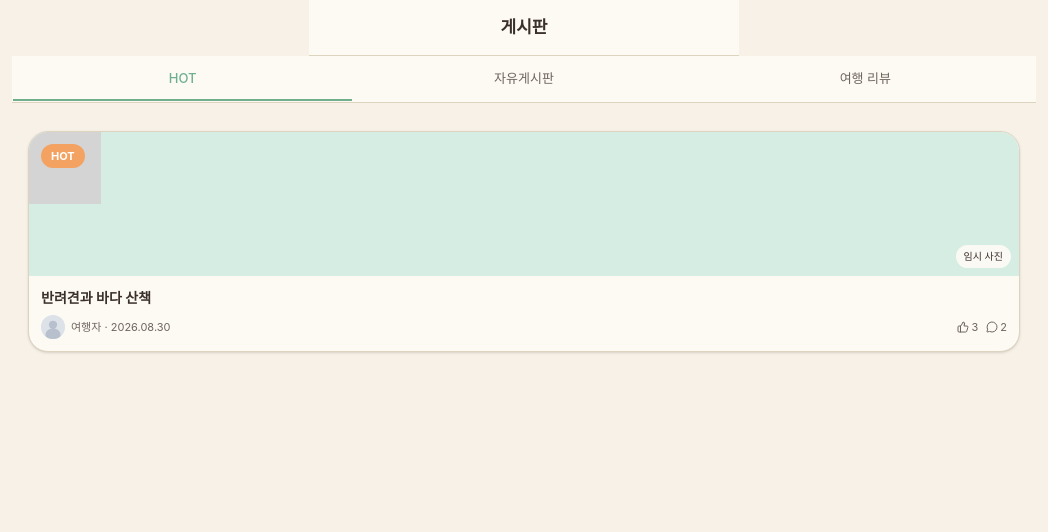
live community board › loads travel review posts through the travel review category feed
Click the button "여행 리뷰" at (865, 79), box [695,56,1036,102]
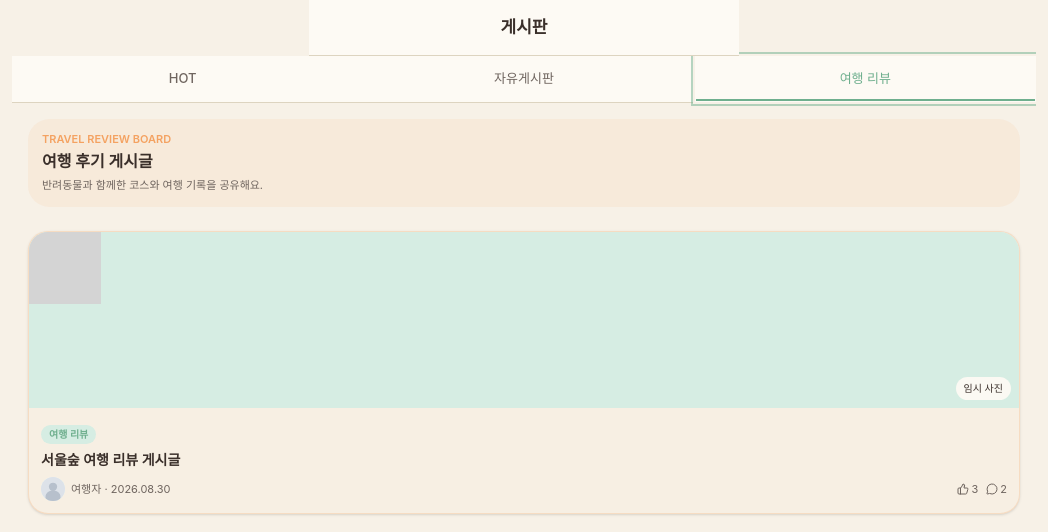
Check: the heading "여행 후기 게시글" is shown, box [42,151,153,171]
Check: the heading "서울숲 여행 리뷰 게시글" is shown, box [41,451,180,468]
